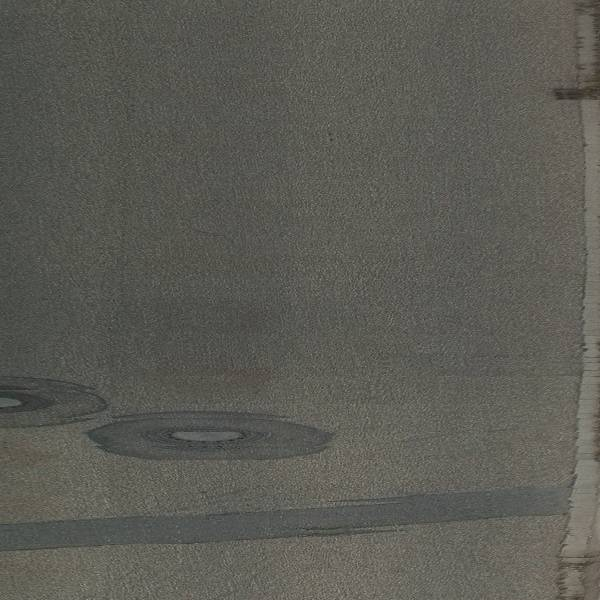road_damage: (1, 478, 561, 563), (81, 404, 341, 464), (1, 369, 111, 436)
